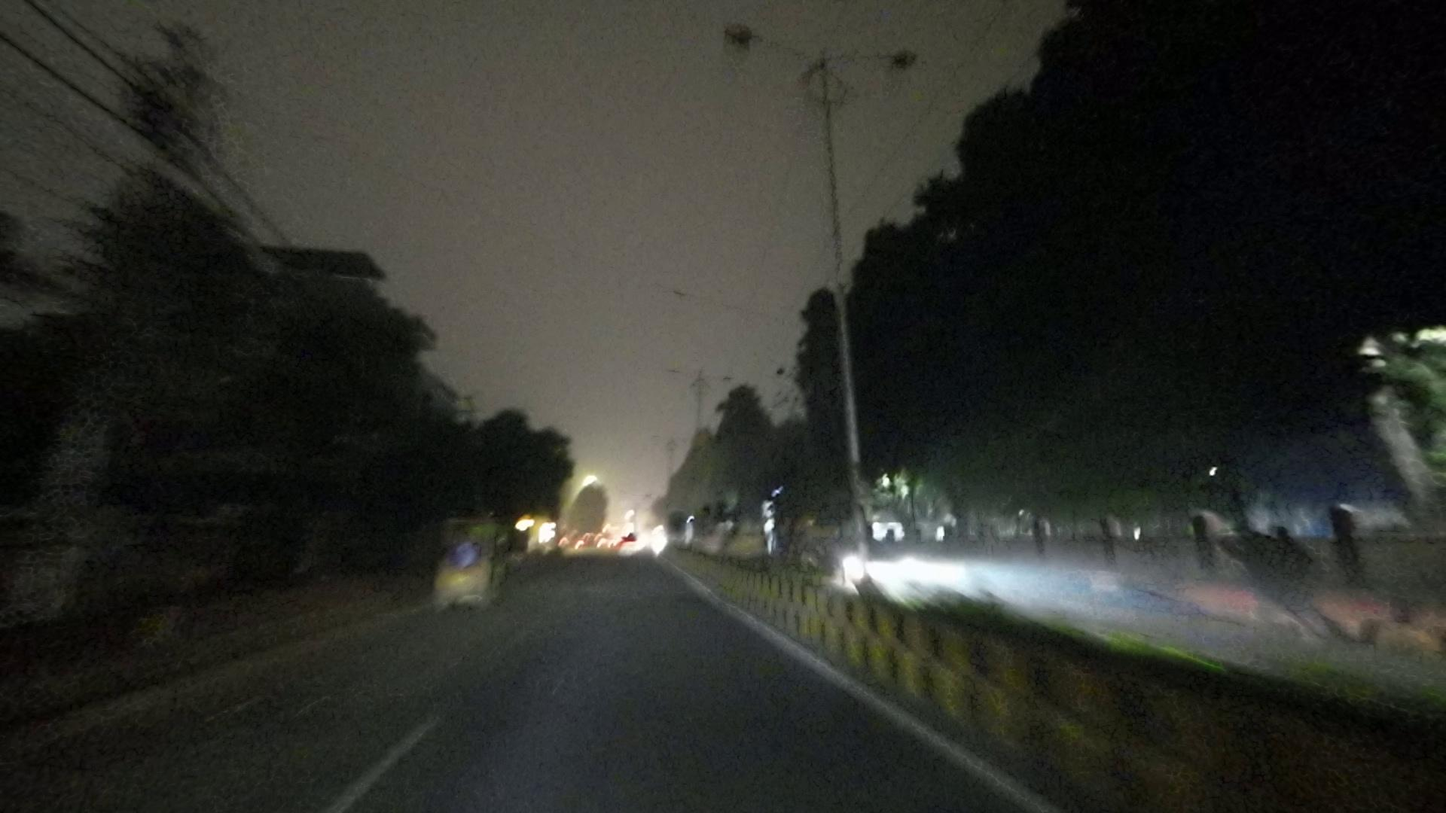streetlight: (721, 19, 816, 65), (822, 41, 920, 73)
